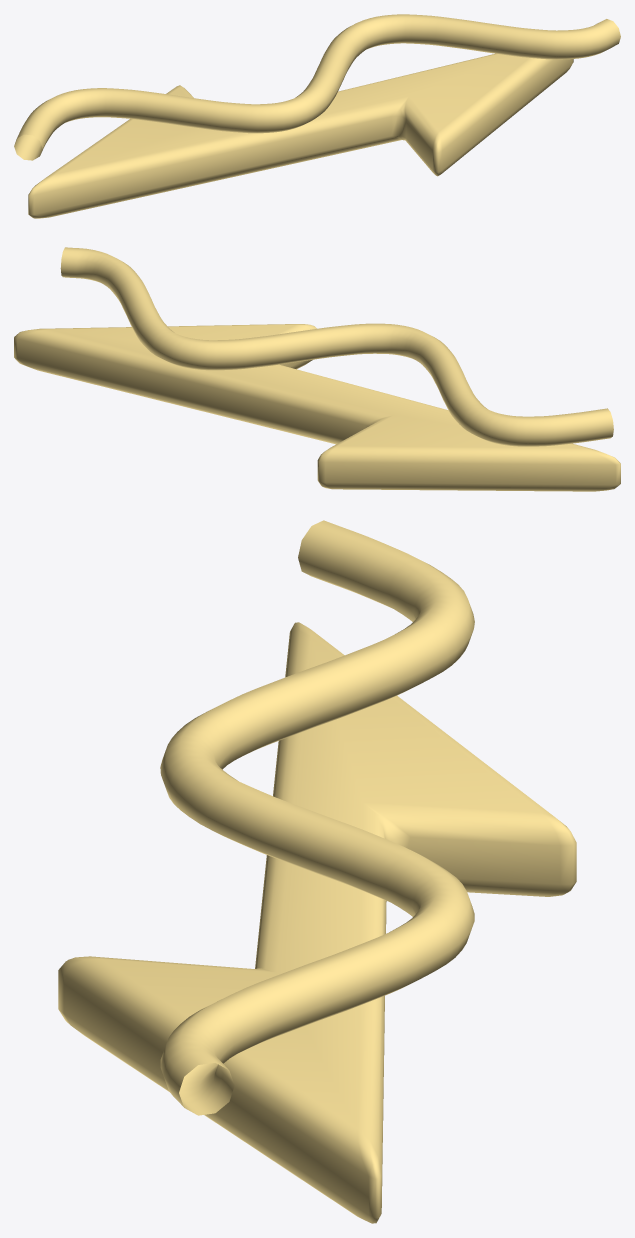
Rendered from photon.glb.
The picture shows the model from 3 angles, top to bottom: view 1: azimuth 30°, elevation 25°; view 2: azimuth 150°, elevation 25°; view 3: azimuth 270°, elevation 25°; orthographic projection. The views are drawn at different scales.
Visible parts, largest first — view 1: photon_textured_mesh; view 2: photon_textured_mesh; view 3: photon_textured_mesh.
Part boxes in pixels (x1=…): photon_textured_mesh: x1=14, y1=14, x2=620, y2=218; photon_textured_mesh: x1=14, y1=247, x2=620, y2=491; photon_textured_mesh: x1=58, y1=520, x2=576, y2=1223.
Size of the model in its own units: 2.47 by 0.3523 by 0.9727.
Materials: 1 (1 with a texture image).
